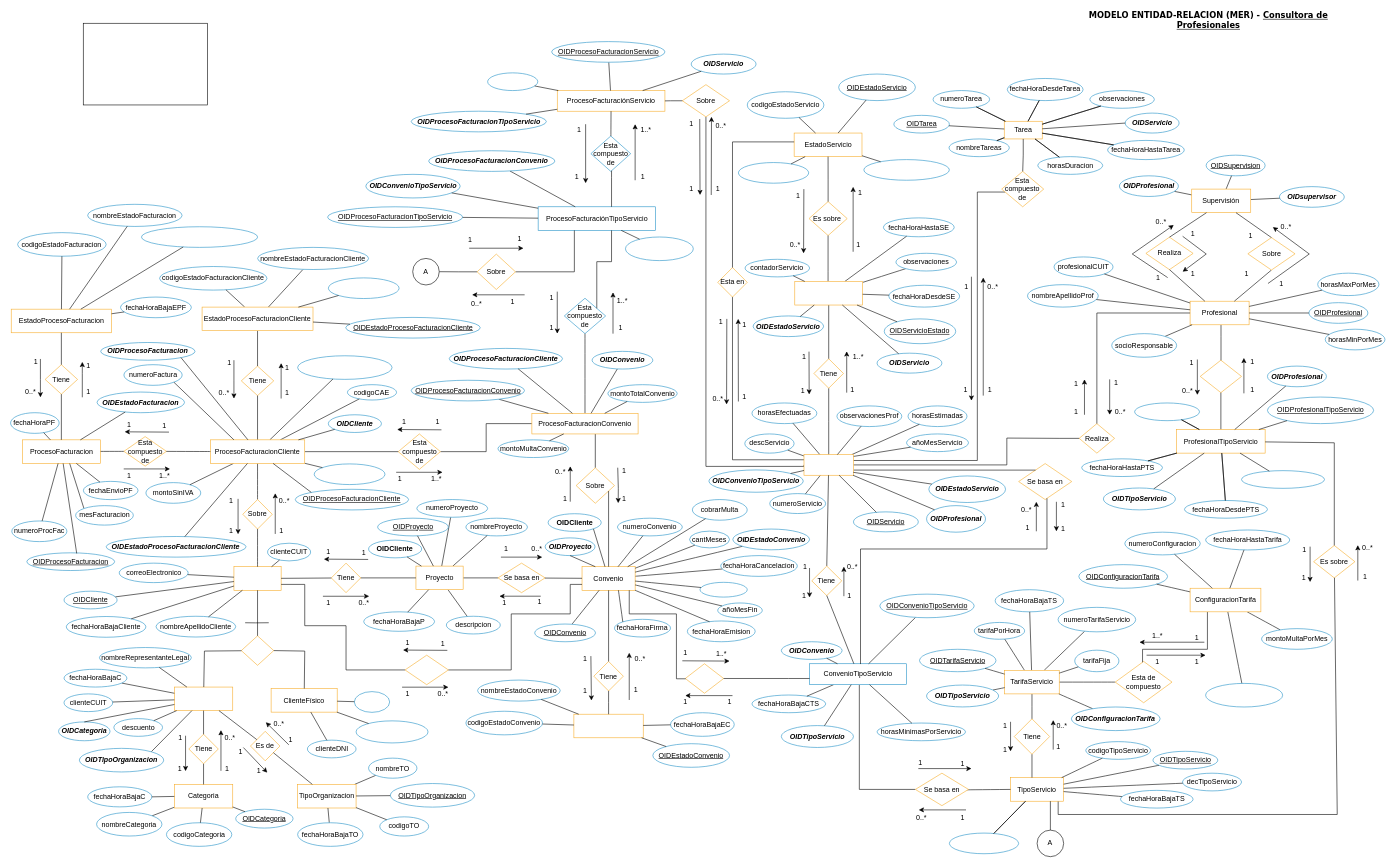
The diagram is 1395 pixels wide and 867 high, and some of its shapes have lost their labels. Each missing label, with the centre of its shape:
"a ñoMesInicio" goes at point 723,589.
"Acuerdo" goes at point 426,670.
"Cliente" goes at point 257,578.
"ClienteJuridico" goes at point 203,698.
"contadorProfesional" goes at point 1282,479.
"Contiene" goes at point 704,678.
"domicilio" goes at point 372,701.
"EstadoConvenio" goes at point 608,726.
"fechaHoraBajaEPFC" goes at point 363,288.
"fechaHoraBajaES" goes at point 773,172.
"fechaHoraDesdeTarifa" goes at point 1244,695.
"fechaHoraFacturacionCliente" goes at point 344,367.
"fechaNacimiento" goes at point 391,731.
"montoHonorario" goes at point 1167,411.
"montoServicio" goes at point 512,81.
"montoTipoServicio" goes at point 659,248.
"montoTotalCliente" goes at point 349,474.
"nombreEstadoServicio" goes at point 906,169.
"nombreTipoServicio" goes at point 984,843.
"OIDEstadoProcesoFacturacion" goes at point 199,236.
"REFERENCIAS Foreign Key Primary Key PK FK" goes at point 145,64.
"Sabe" goes at point 1221,376.
"Servicio" goes at point 828,464.
"ServicioEstado" goes at point 828,293.
